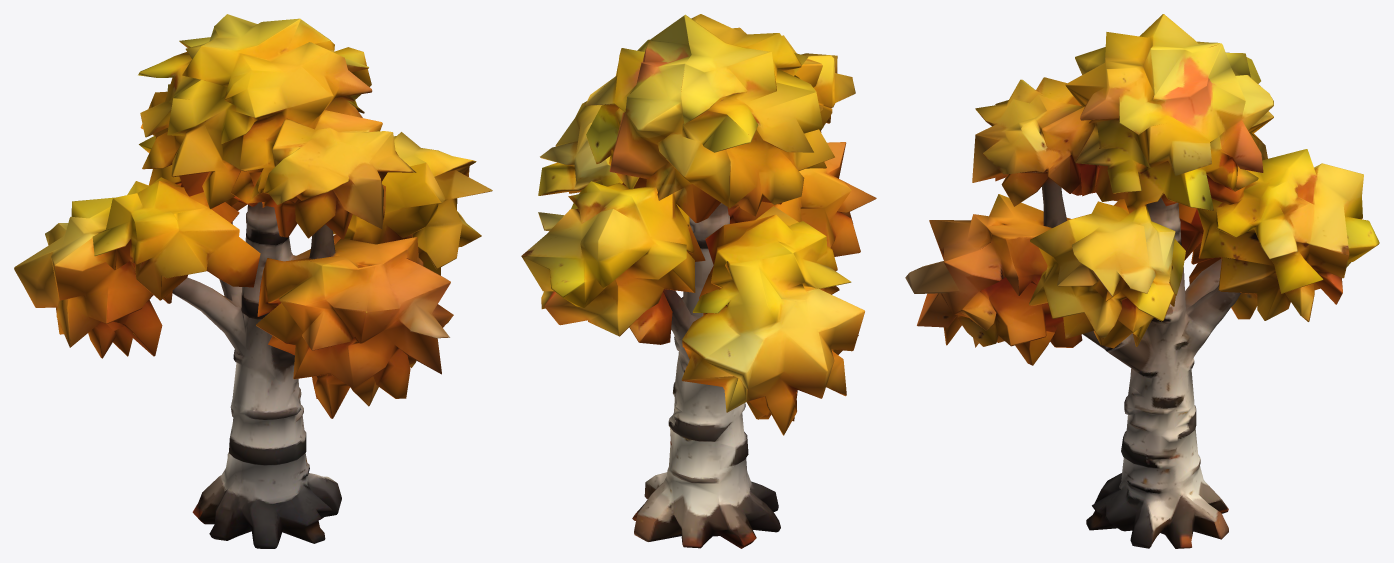
Rendered from birch_tree.glb.
3 renders of one model, left to right at view 1: azimuth 30°, elevation 25°; view 2: azimuth 150°, elevation 25°; view 3: azimuth 270°, elevation 25°, orthographic. The views are drawn at different scales.
Visible parts, largest first — view 1: tripo_node_42de6571-f39a-460f-8d9a-ad32f4c64e0f; view 2: tripo_node_42de6571-f39a-460f-8d9a-ad32f4c64e0f; view 3: tripo_node_42de6571-f39a-460f-8d9a-ad32f4c64e0f.
Boxes of the visible parts, bbox=[...] form: tripo_node_42de6571-f39a-460f-8d9a-ad32f4c64e0f: bbox=[14, 14, 492, 548]; tripo_node_42de6571-f39a-460f-8d9a-ad32f4c64e0f: bbox=[521, 14, 876, 548]; tripo_node_42de6571-f39a-460f-8d9a-ad32f4c64e0f: bbox=[905, 14, 1379, 548].
Bounding box in the file's own units: 0.4974 × 0.65 × 0.5762.
Materials: 1 (1 with a texture image).
